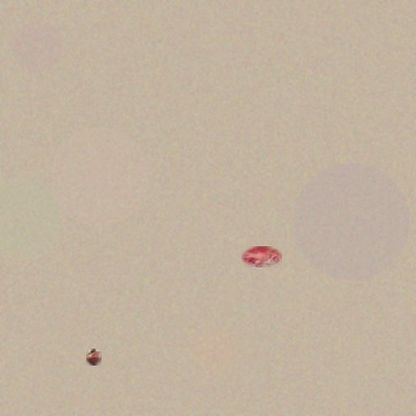rotten: (241, 246, 282, 267)
sprouted: (86, 349, 102, 366)
